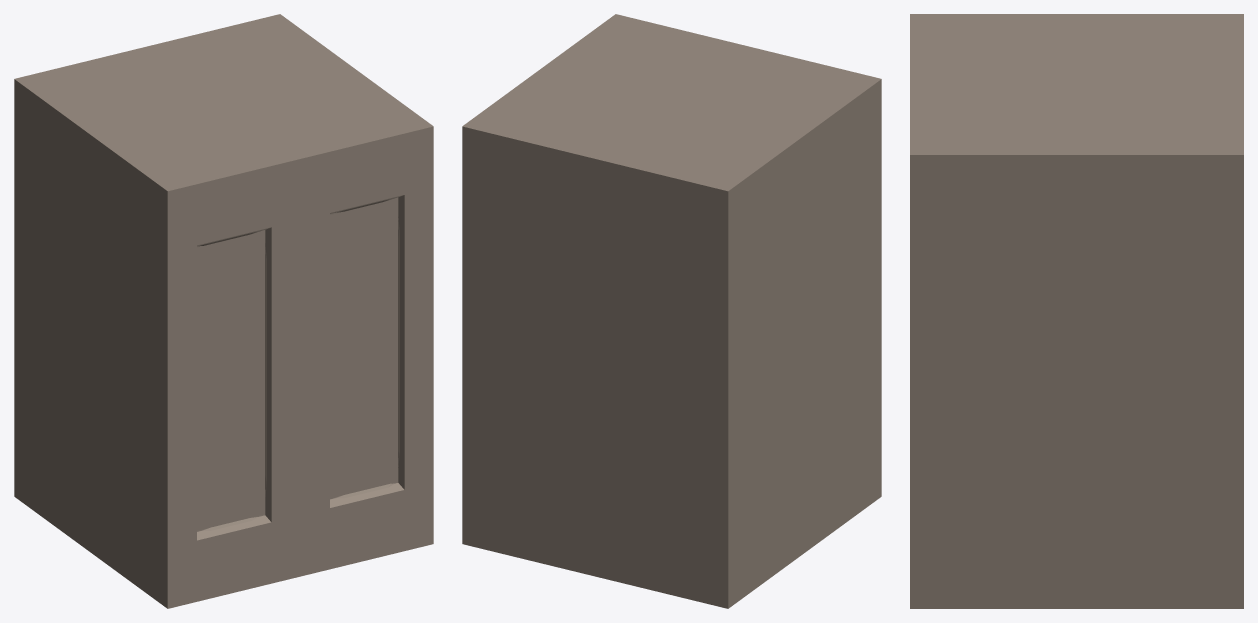
Rendered from Wall-Cabinet-18-High-12-Deep_std_001_W12in.glb.
3 views of the same model, side by side, from view 1: azimuth 30°, elevation 25°; view 2: azimuth 150°, elevation 25°; view 3: azimuth 270°, elevation 25° (orthographic). The views are drawn at different scales.
Visible parts, largest first — view 1: Wall-Cabinet-18-High-12-Deep.std.001_W12in; view 2: Wall-Cabinet-18-High-12-Deep.std.001_W12in; view 3: Wall-Cabinet-18-High-12-Deep.std.001_W12in.
Part boxes in pixels (<box>): Wall-Cabinet-18-High-12-Deep.std.001_W12in: <box>14,14,433,608</box>; Wall-Cabinet-18-High-12-Deep.std.001_W12in: <box>462,14,881,608</box>; Wall-Cabinet-18-High-12-Deep.std.001_W12in: <box>910,14,1243,608</box>.
Bounding box in the file's own units: 0.3048 × 0.4572 × 0.3048.
